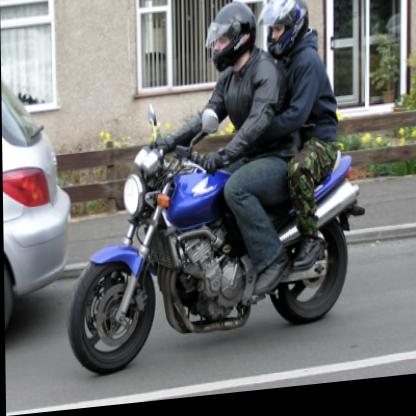With Helmet: (201, 4, 257, 83)
